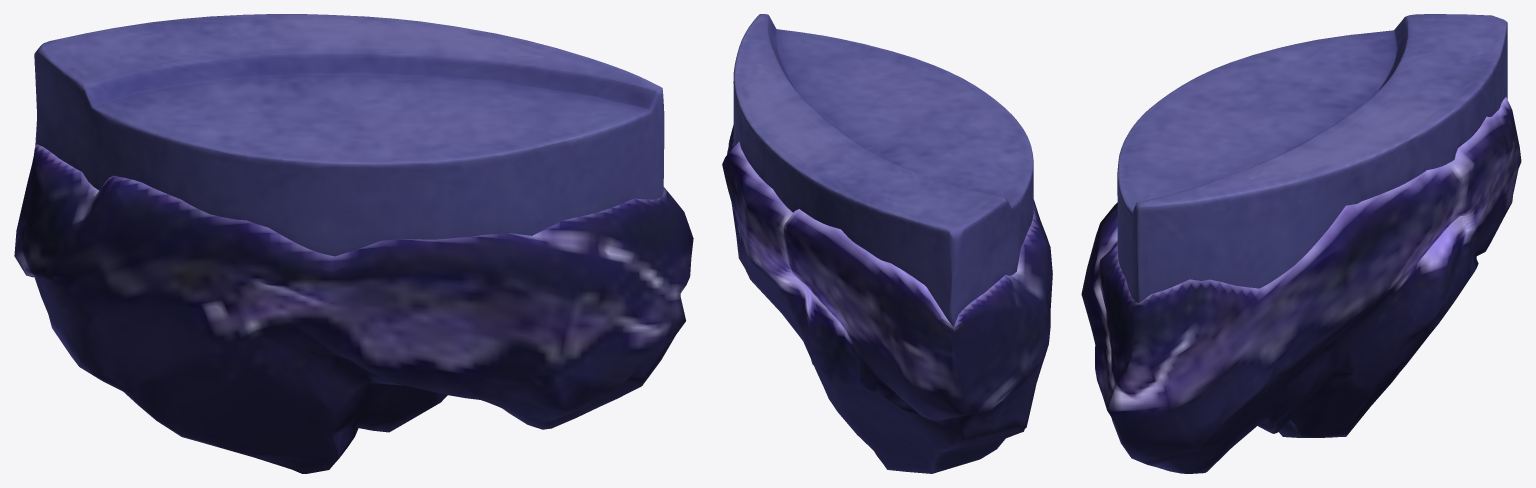
File: sky_rock_02a2_nexus_v35.glb
3 views of the same model, side by side, from view 1: azimuth 30°, elevation 25°; view 2: azimuth 150°, elevation 25°; view 3: azimuth 270°, elevation 25° (orthographic). The views are drawn at different scales.
Parts seen in each view (by area): view 1: rock_02a2; view 2: rock_02a2; view 3: rock_02a2.
Part boxes in pixels (box(x1,y1,x2,y2)): rock_02a2: box(14, 14, 693, 473); rock_02a2: box(722, 14, 1052, 473); rock_02a2: box(1081, 14, 1521, 473).
Size of the model in its own units: 34.4 by 25.49 by 28.99.
1 material, 1 textured.
